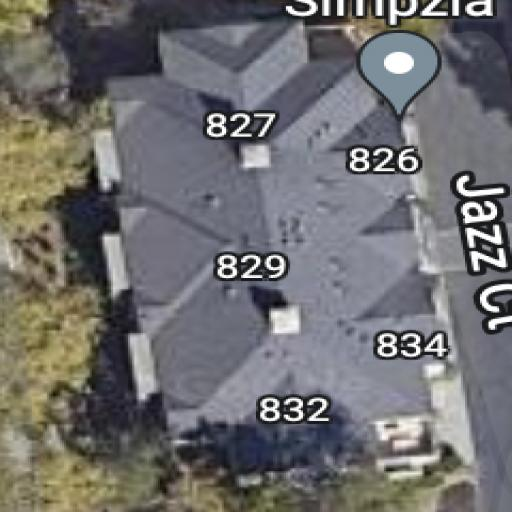Slope-Roof: (87, 20, 451, 441)
